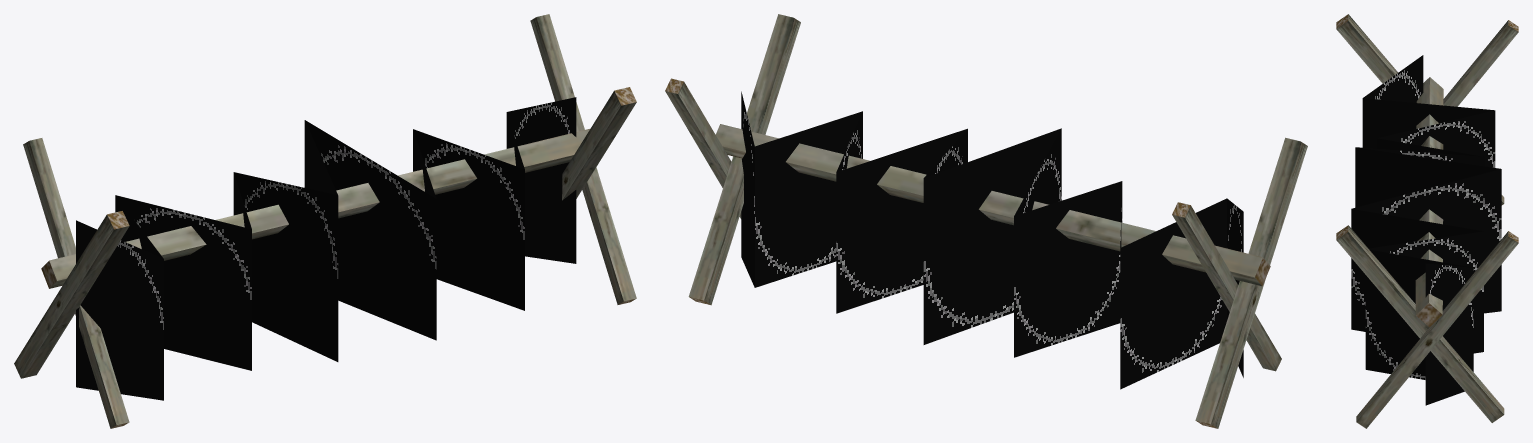
File: Checkpoint_Barrier4M.glb
3 views of the same model, side by side, from view 1: azimuth 30°, elevation 25°; view 2: azimuth 150°, elevation 25°; view 3: azimuth 270°, elevation 25° (orthographic). The views are drawn at different scales.
Parts seen in each view (by area): view 1: CHECKPOINT_BARRIER4M; view 2: CHECKPOINT_BARRIER4M; view 3: CHECKPOINT_BARRIER4M.
Part boxes in pixels (x1,y1,x2,y2): CHECKPOINT_BARRIER4M: (14, 14, 636, 428); CHECKPOINT_BARRIER4M: (665, 14, 1307, 428); CHECKPOINT_BARRIER4M: (1336, 14, 1518, 428).
Size of the model in its own units: 4.2 by 1.67 by 1.43.
Materials: 2 (2 with a texture image).
